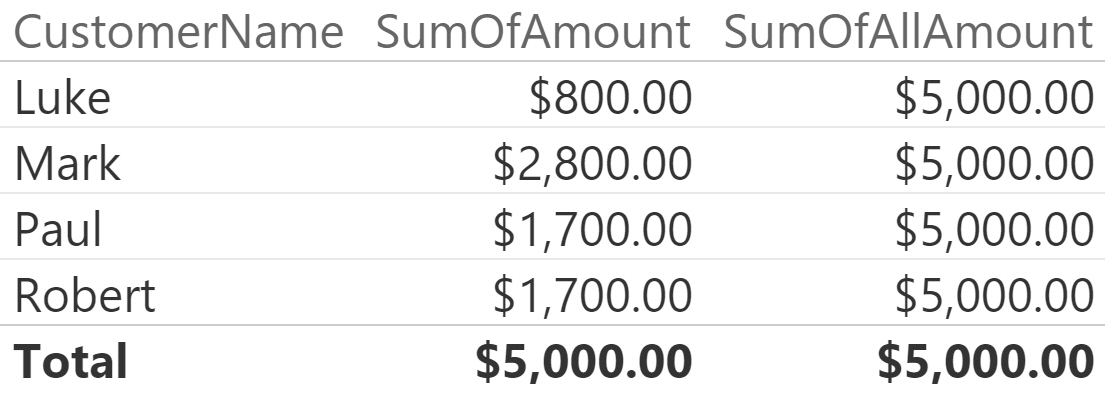table: (3, 2, 1113, 388)
